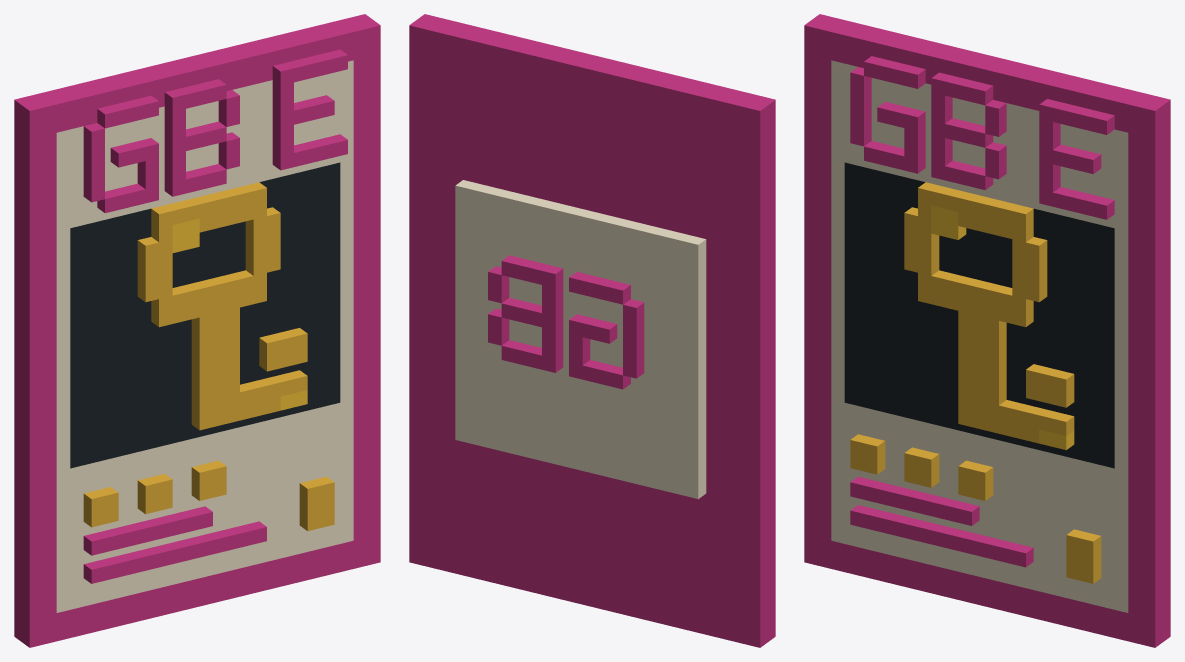
The model's file is card_epic.glb.
3 renders of one model, left to right at view 1: azimuth 30°, elevation 25°; view 2: azimuth 150°, elevation 25°; view 3: azimuth 330°, elevation 25°, orthographic.
Parts seen in each view (by area): view 1: card_epic; view 2: card_epic; view 3: card_epic.
Boxes of the visible parts, box(x1,y1,x2,y2) form: card_epic: box(14, 14, 380, 647); card_epic: box(409, 14, 775, 647); card_epic: box(804, 14, 1170, 647).
Bounding box in the file's own units: 1.3 × 1.9 × 0.25.
Materials: 1 (1 with a texture image).
